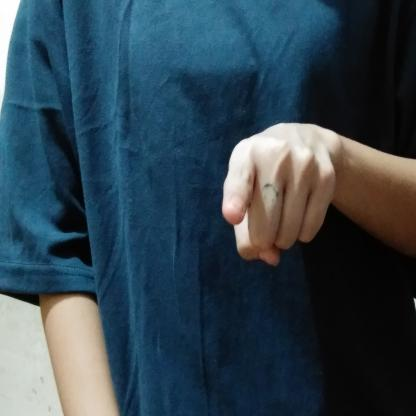you: (209, 109, 338, 271)
